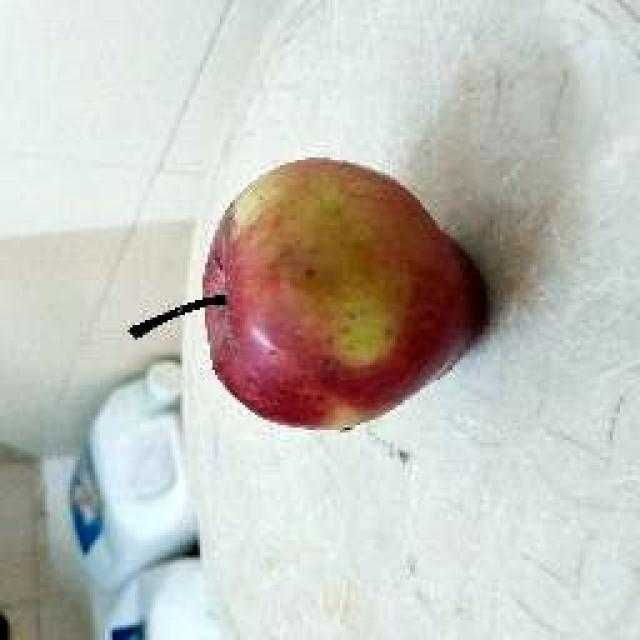Good_Apple: (202, 158, 490, 435)
